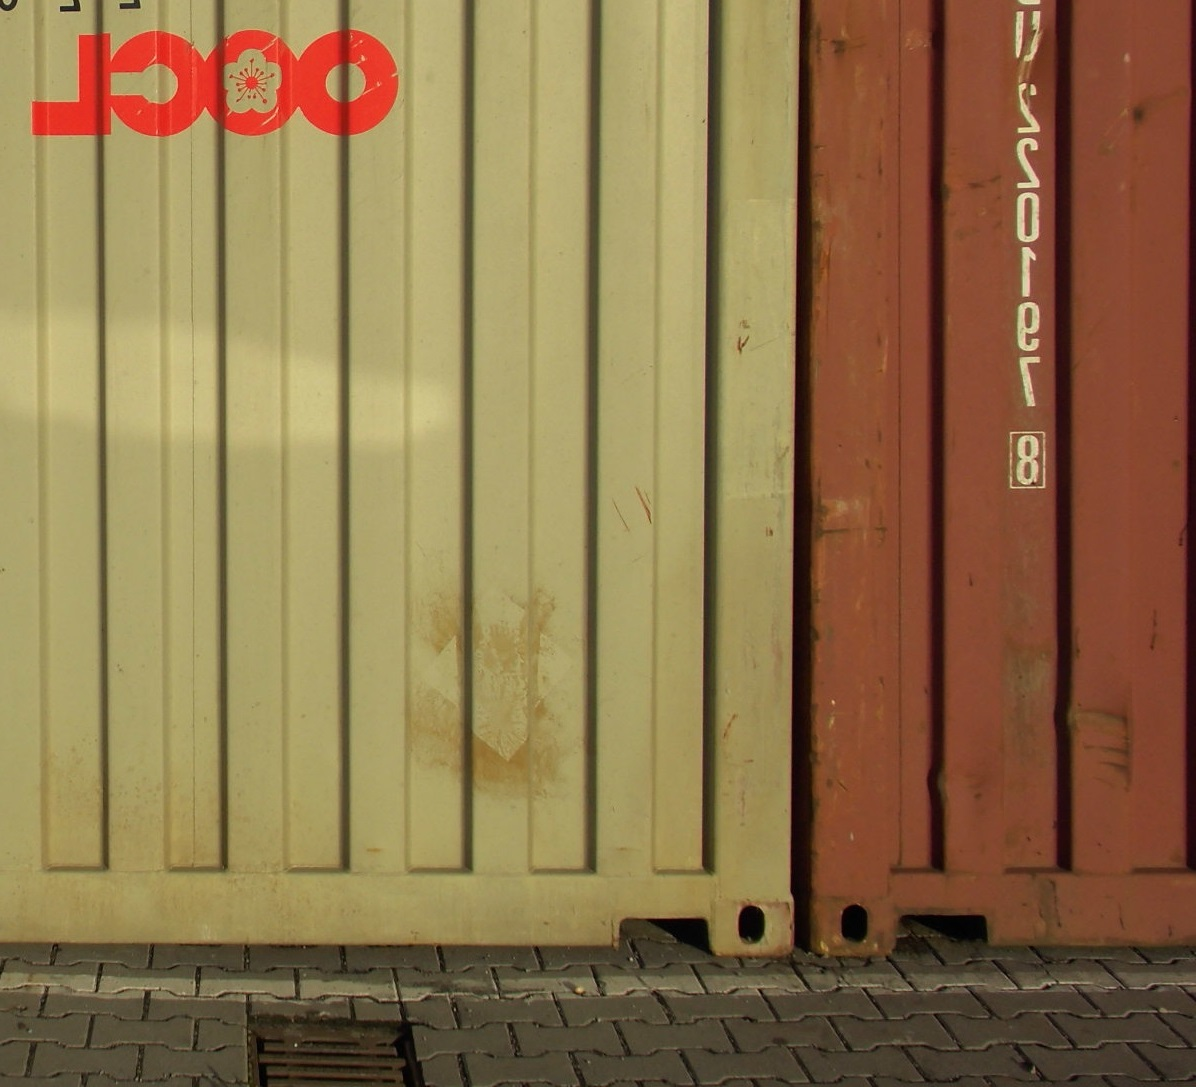container_no_door: (1, 1, 794, 962), (809, 1, 1196, 967)
